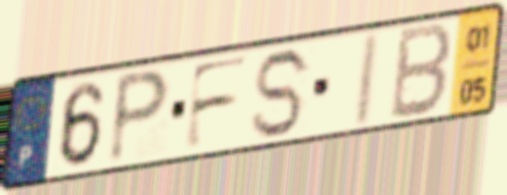6: (57, 79, 110, 171)
B: (386, 19, 456, 123)
F: (181, 52, 253, 155)
I: (349, 29, 383, 132)
P: (104, 66, 174, 169)
S: (249, 45, 316, 143)
